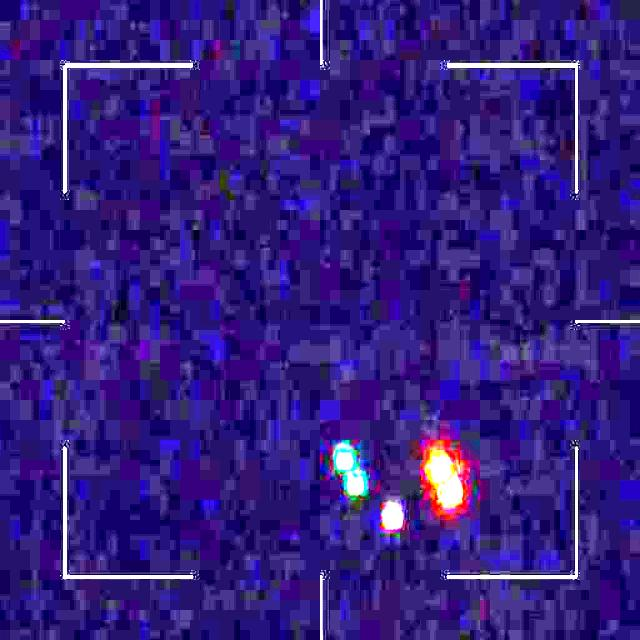bird: (335, 440, 464, 536)
